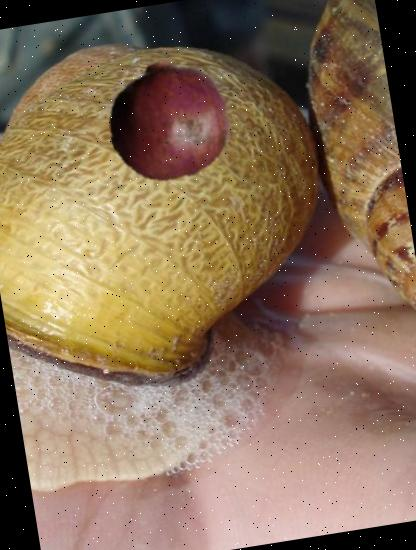Pomegranate: (98, 51, 238, 190)
